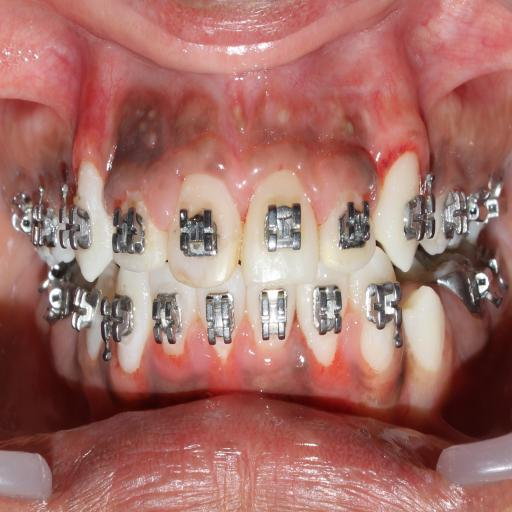correct_brace: (178, 197, 222, 272), (262, 194, 304, 265), (110, 204, 151, 262), (404, 170, 434, 249), (338, 189, 370, 261)
incorrect_brace: (322, 179, 374, 274), (108, 190, 166, 270)
